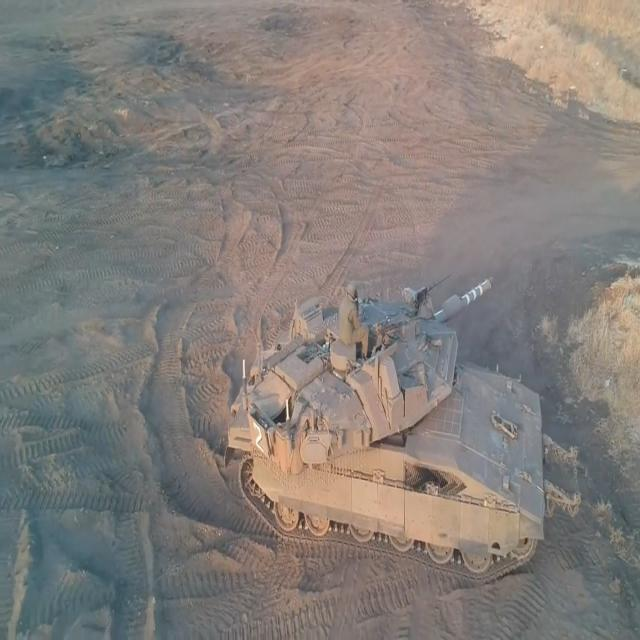tank: (225, 272, 562, 578)
